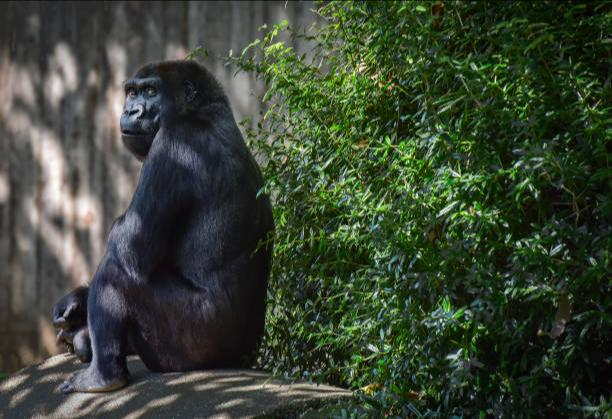gorille_Autres: (58, 54, 292, 386)
